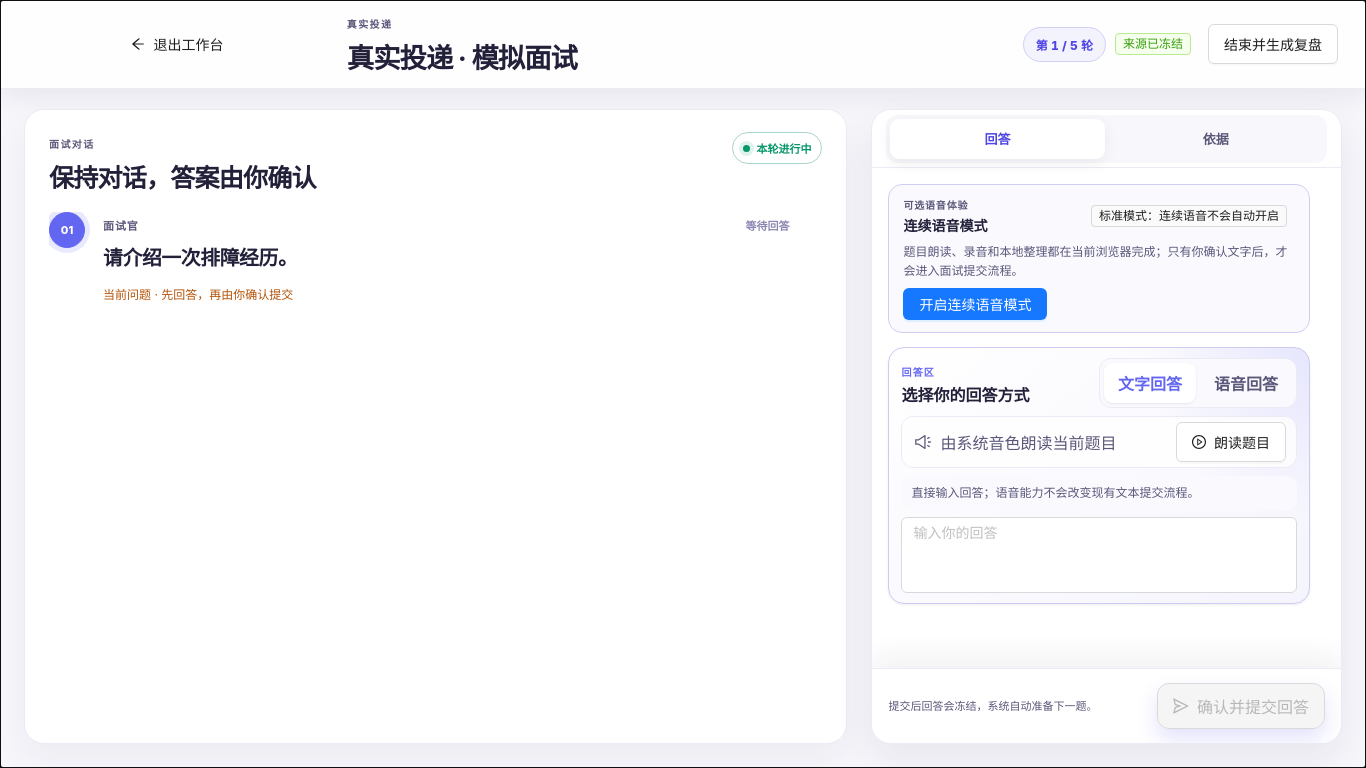
Test case: InterviewStudio continuous voice integration › explains when completed feedback contains no verifiable suggestions
Click the button "结束并生成复盘" at (1273, 44), box [1208,24,1338,64]
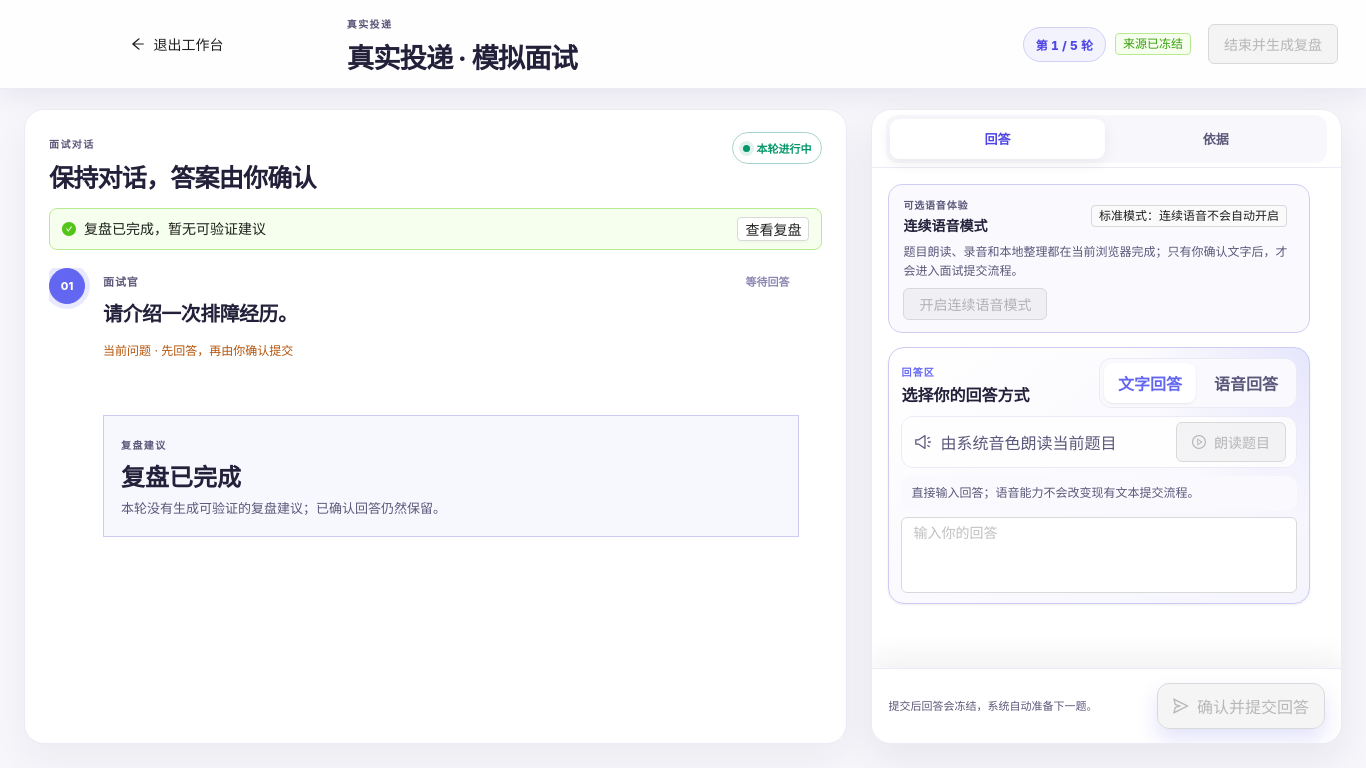
Now the message "复盘已完成，暂无可验证建议 查看复盘" is shown, box [49,208,822,250]
Now the element showing "复盘建议 复盘已完成 本轮没有生成可验证的复盘建议；已确认回答仍然保留。" is shown, box [103,415,800,536]
